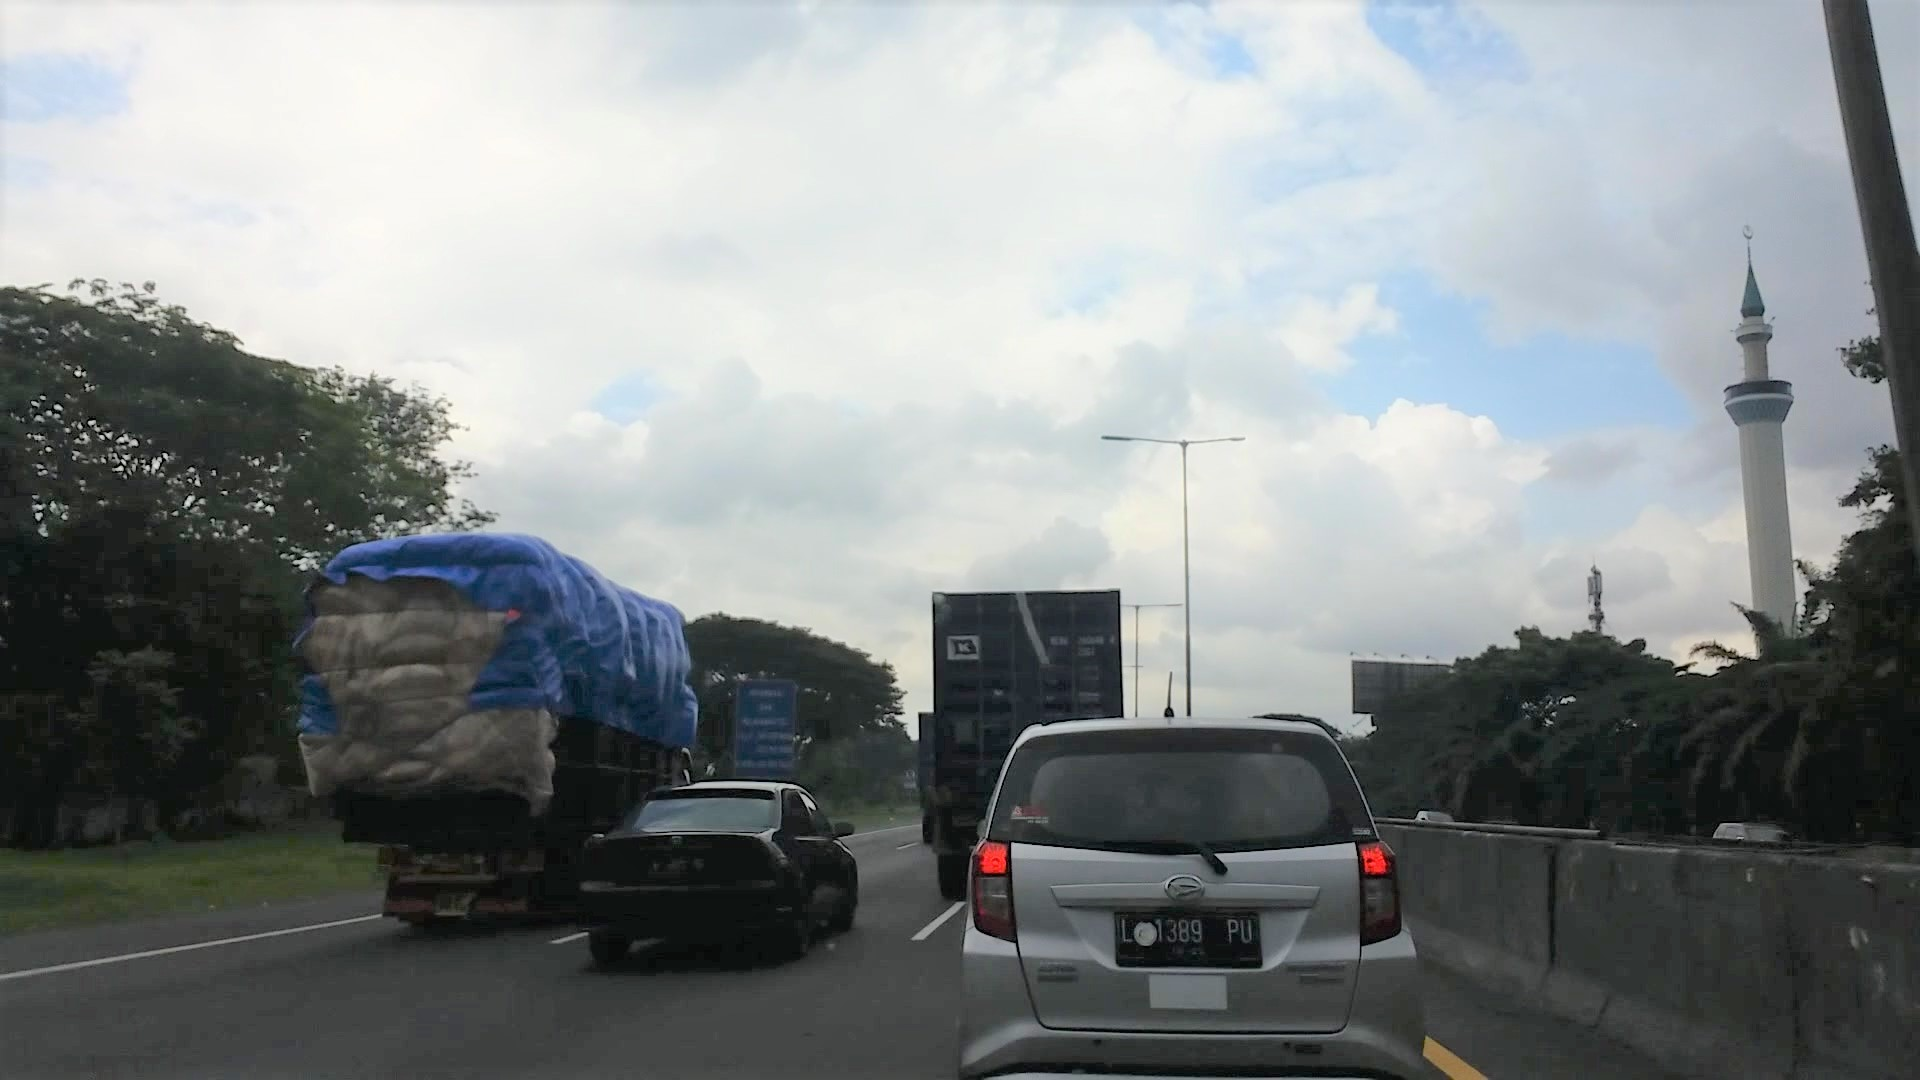plate_positive: (1114, 909, 1263, 969)
